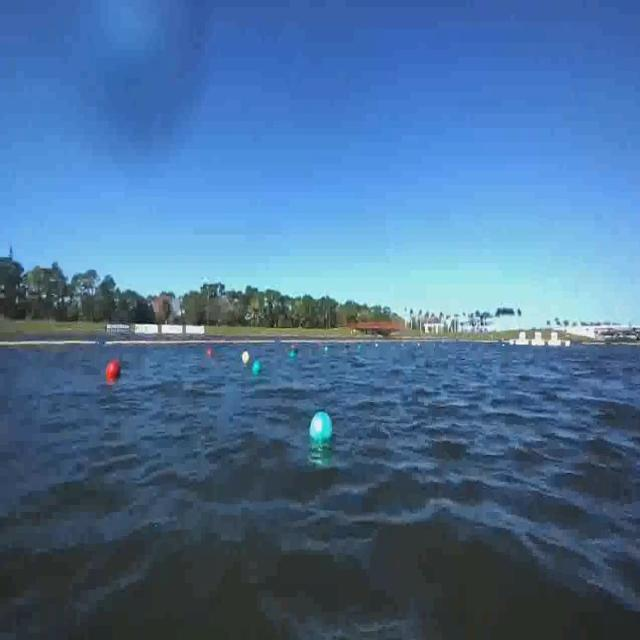green-buoy: (310, 410, 334, 444), (252, 359, 262, 375)
red-buoy: (109, 358, 124, 378)
yellow-buoy: (241, 351, 248, 364)
